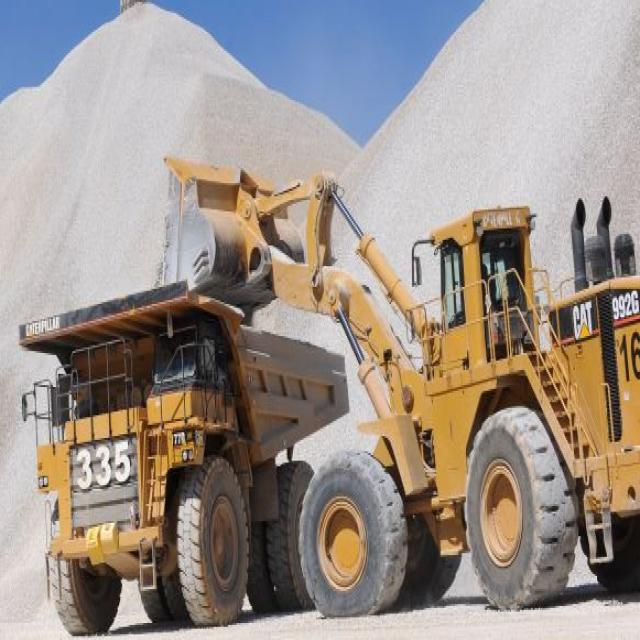buldozerpayloadergrader: (149, 117, 639, 619)
dump_truck: (16, 272, 362, 638)
